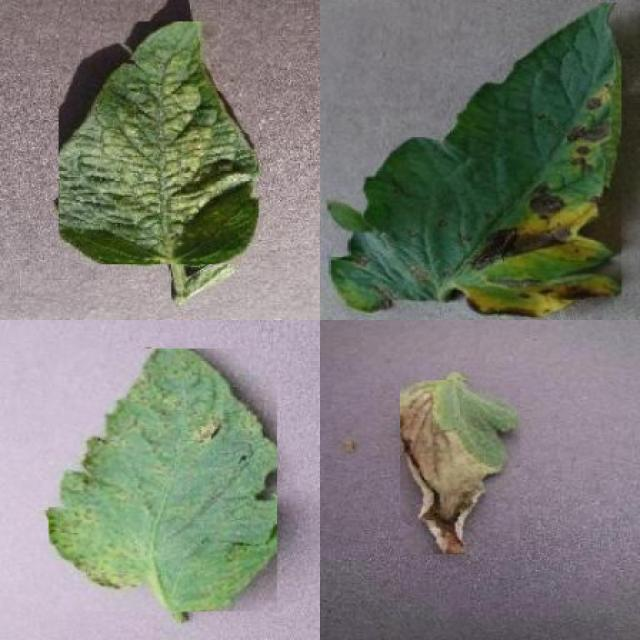Early Blight: (327, 3, 622, 320)
Late Blight: (400, 380, 520, 554)
Septoria: (48, 348, 278, 612)
Spider Mites: (58, 22, 258, 264)
